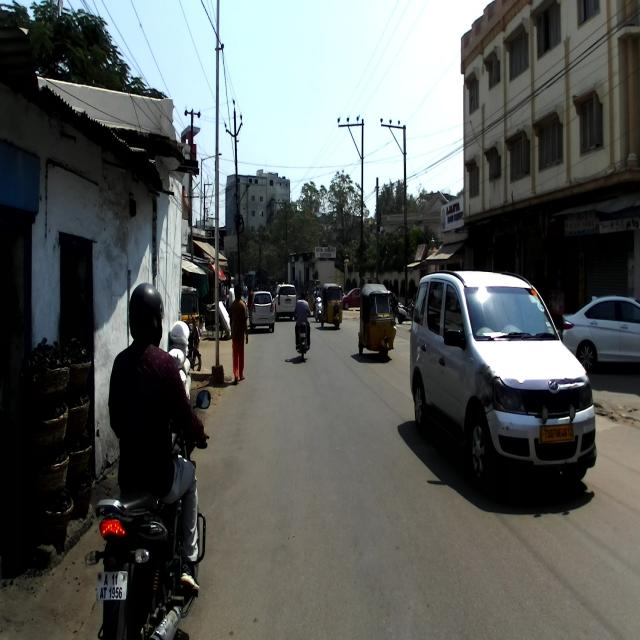high: (227, 282, 247, 386)
